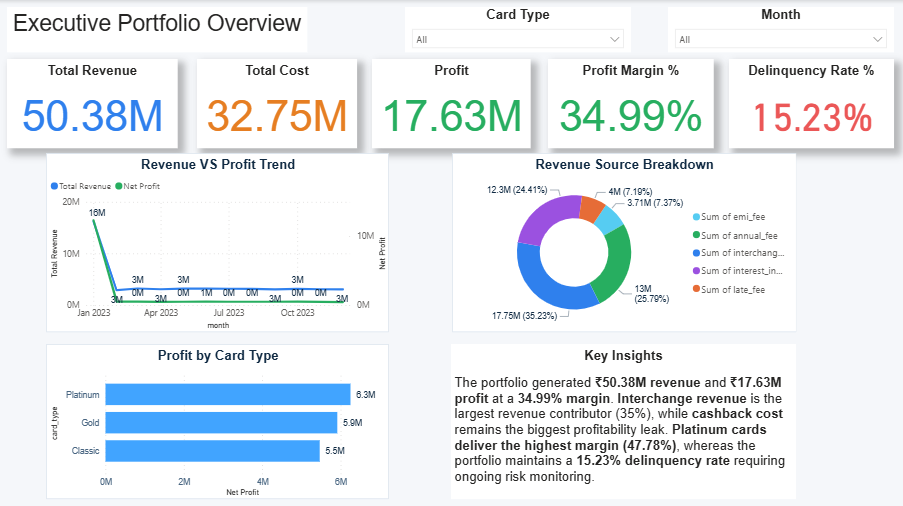

The page's visual inventory and layout, read from the dashboard file:
{"tool":"powerbi","page":{"name":"Executive ","canvas":[1280,720],"ordinal":0},"visuals":[{"type":"textbox","box":[11.3,9.9,423.5,63.5],"z":0},{"type":"slicer","title":"Card Type","fields":{"Values":["cardholders.card_type"]},"box":[573.2,9.9,319.1,63.5],"z":1000},{"type":"slicer","title":"Month","fields":{"Values":["delinquency_new.month"]},"box":[944.5,9.9,319.1,63.5],"z":2000},{"type":"card","title":"Total Revenue","fields":{"Values":["Matrix.Total Revenue"]},"box":[11.3,83.3,241.4,125.6],"z":3000},{"type":"card","title":"Total Cost","fields":{"Values":["Matrix.Total Cost"]},"box":[279.5,83.3,225.9,125.6],"z":4000},{"type":"card","title":"Profit","fields":{"Values":["Matrix.Net Profit"]},"box":[526.6,83.3,224.5,125.6],"z":5000},{"type":"card","title":"Profit Margin %","fields":{"Values":["Matrix.Profit Margin %"]},"box":[775.1,83.3,234.4,125.6],"z":6000},{"type":"card","title":"Delinquency Rate %","fields":{"Values":["Matrix.Delinquency Rate %"]},"box":[1030.6,83.3,232.9,125.6],"z":7000},{"type":"lineChart","title":"Revenue VS Profit Trend","fields":{"Y":["Matrix.Total Revenue"],"Category":["billing.month.Variation.Date Hierarchy.Year"],"Y2":["Matrix.Net Profit"]},"box":[66.4,216,484.2,252.7],"z":8000},{"type":"donutChart","title":"Revenue Source Breakdown","fields":{"Y":["Sum(billing.emi_fee)","Sum(billing.annual_fee)","Sum(billing.interchange_revenue)","Sum(billing.interest_income)","Sum(billing.late_fee)"]},"box":[639.5,216,485.6,252.7],"z":9000},{"type":"clusteredBarChart","title":"Profit by Card Type","fields":{"Y":["Matrix.Net Profit"],"Category":["billing.card_type"]},"box":[66.4,485.6,484.2,218.8],"z":10000},{"type":"textbox","box":[638.1,485.6,487.1,218.8],"z":11000}]}

Visuals, with their boxes in screenshot pixels (x1, y1, x2, y2), scaled from the page's 1280x720 canvas onto the 903x506 screenshot:
textbox: [left=8, top=7, right=307, bottom=52]
"Card Type" slicer: [left=404, top=7, right=629, bottom=52]
"Month" slicer: [left=666, top=7, right=891, bottom=52]
"Total Revenue" card: [left=8, top=59, right=178, bottom=147]
"Total Cost" card: [left=197, top=59, right=357, bottom=147]
"Profit" card: [left=371, top=59, right=530, bottom=147]
"Profit Margin %" card: [left=547, top=59, right=712, bottom=147]
"Delinquency Rate %" card: [left=727, top=59, right=891, bottom=147]
"Revenue VS Profit Trend" lineChart: [left=47, top=152, right=388, bottom=329]
"Revenue Source Breakdown" donutChart: [left=451, top=152, right=794, bottom=329]
"Profit by Card Type" clusteredBarChart: [left=47, top=341, right=388, bottom=495]
textbox: [left=450, top=341, right=794, bottom=495]
